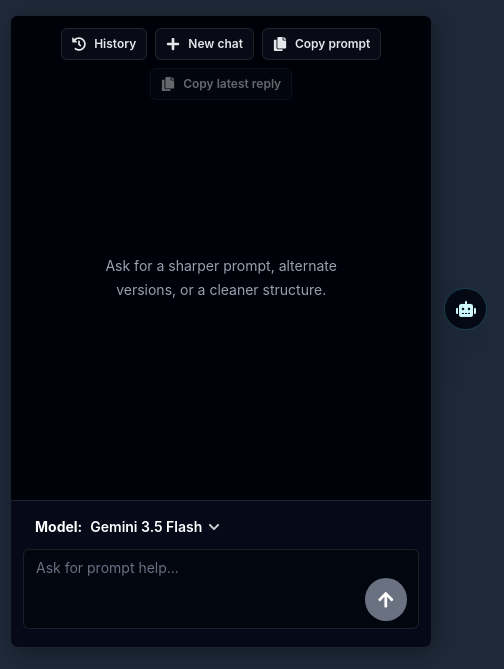
Test: PromptChatPanel history management › preserves a renamed title when a later message is sent
Click the button "History". click: (104, 44)
box: [61,28,147,60]
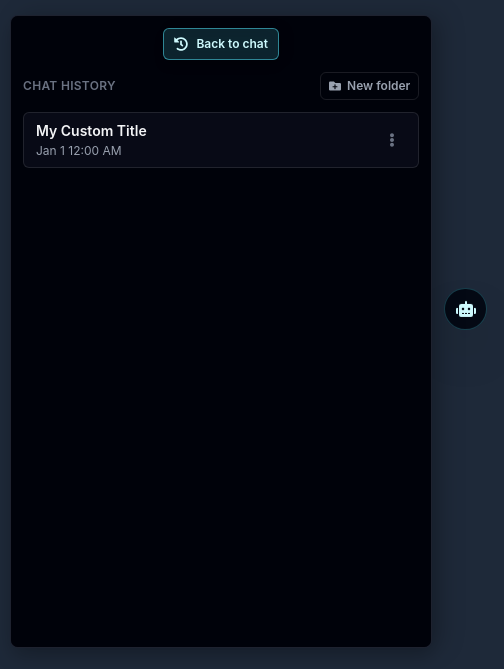
Now the text "My Custom Title" is shown
Click the text "My Custom Title". click: (91, 131)
box: [36,121,147,141]
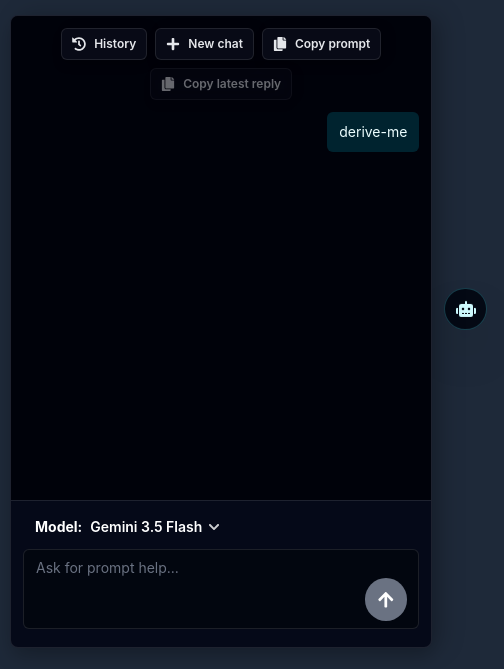
Type "follow up question" into the text box named "Prompt chat message". click: (221, 589)
box: [23,549,419,629]
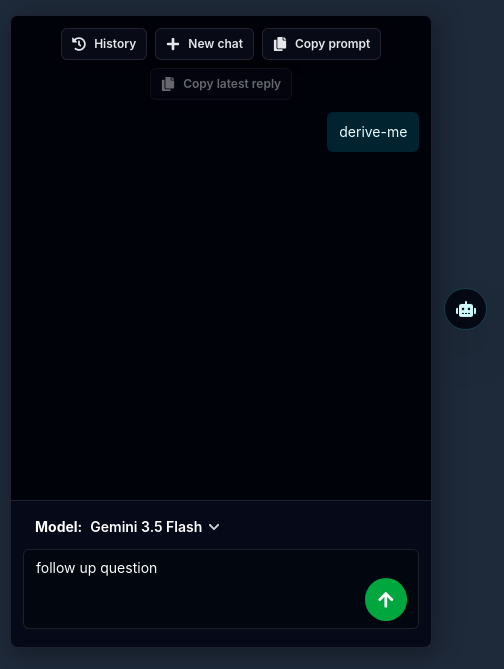
Click the button named "Send". click: (386, 600)
box: [365,578,407,621]
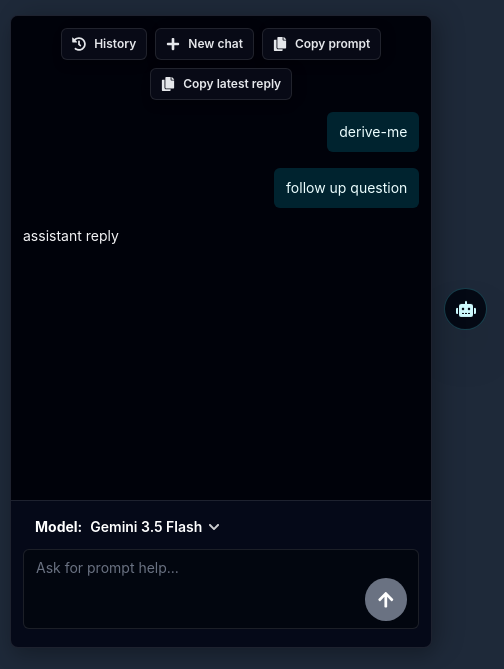
Click the button "History". click: (104, 44)
box: [61,28,147,60]
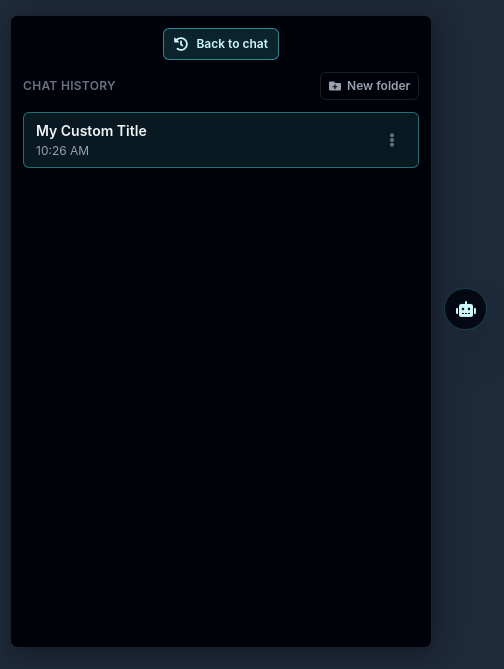
Now the text "My Custom Title" is shown, box [36,121,147,141]
Now the text "derive-me" is gone
